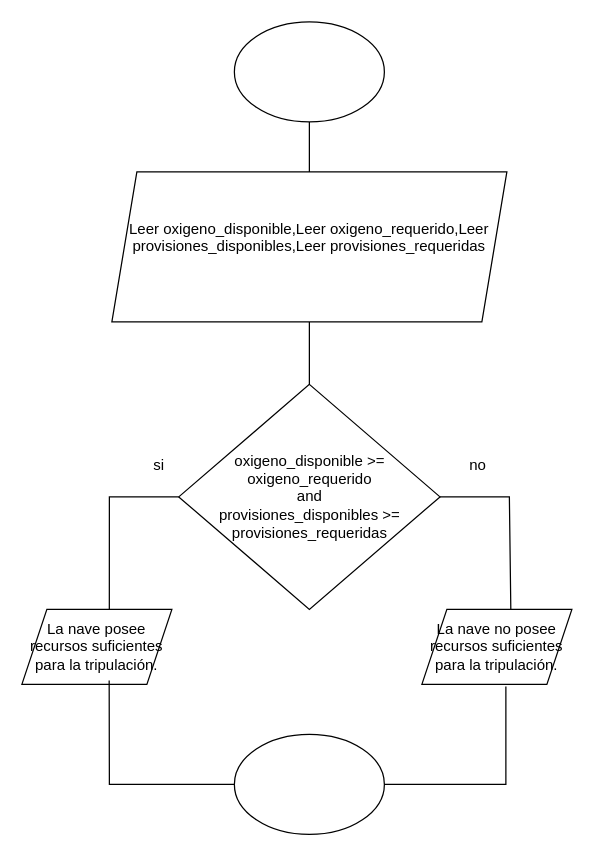
Some shapes in this 594 by 856 pixel diagram are drawn without their labels. The box of each missing label's shape, as (x1, y1, x2, y2) in pixels:
fin: (233, 733, 384, 834)
inicio: (233, 21, 384, 122)
